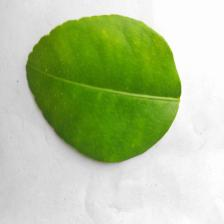greening: (25, 9, 183, 169)
